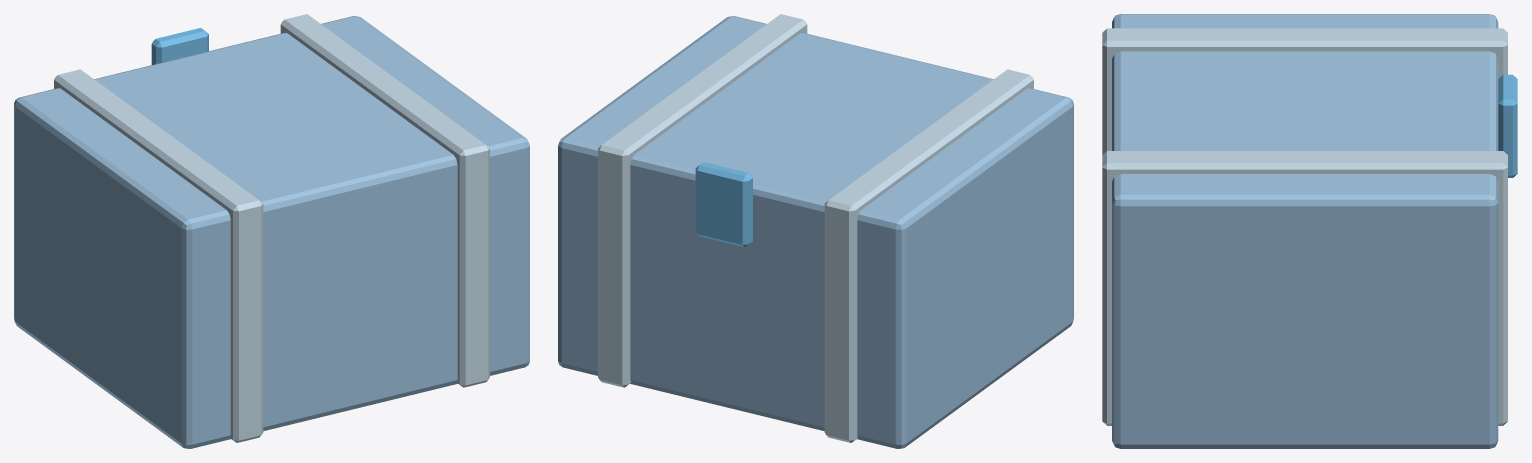
Rendered from ice_mimic_chest.glb.
3 renders of one model, left to right at view 1: azimuth 30°, elevation 25°; view 2: azimuth 150°, elevation 25°; view 3: azimuth 270°, elevation 25°, orthographic. The views are drawn at different scales.
Visible parts, largest first — view 1: ice_mimic_chest; view 2: ice_mimic_chest; view 3: ice_mimic_chest.
Boxes of the visible parts, x1,y1,x2,y2 form: ice_mimic_chest: [14, 14, 529, 448]; ice_mimic_chest: [558, 14, 1073, 448]; ice_mimic_chest: [1102, 14, 1517, 448].
Size of the model in its own units: 0.92 by 0.62 by 0.86.
